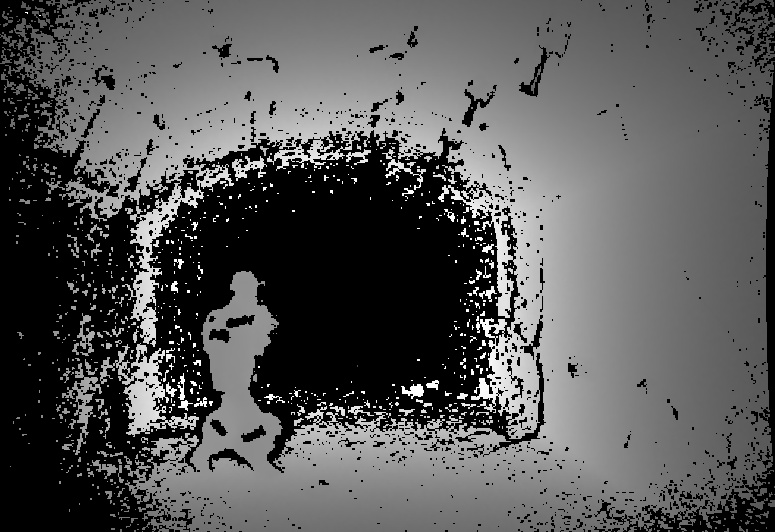person: (190, 269, 284, 474)
